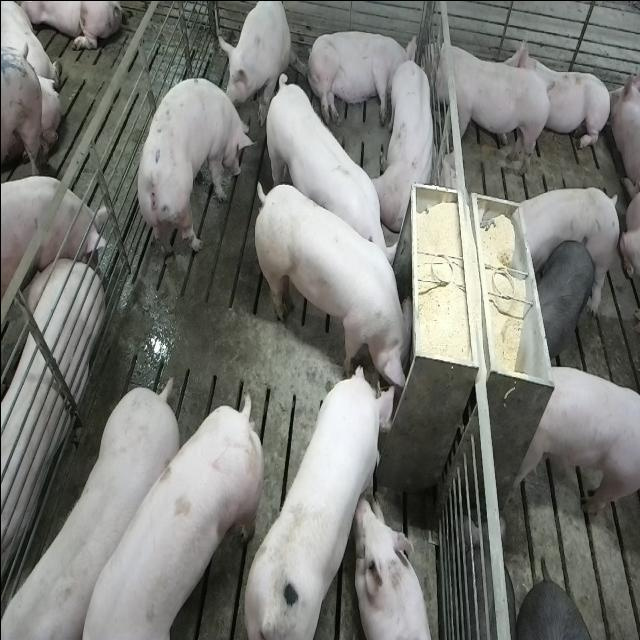Feeding: (244, 360, 406, 634), (256, 176, 419, 406)
Lateral_lying: (0, 254, 102, 616), (304, 28, 416, 128)
Sitting: (218, 1, 294, 123)
Standing: (72, 389, 262, 640), (0, 380, 175, 640), (261, 72, 395, 282), (130, 77, 250, 279), (507, 364, 639, 520), (423, 34, 554, 180), (0, 174, 107, 306), (508, 184, 618, 292), (534, 236, 596, 360)
Sternal_lying: (508, 32, 610, 155), (374, 47, 438, 231), (355, 494, 434, 640)
